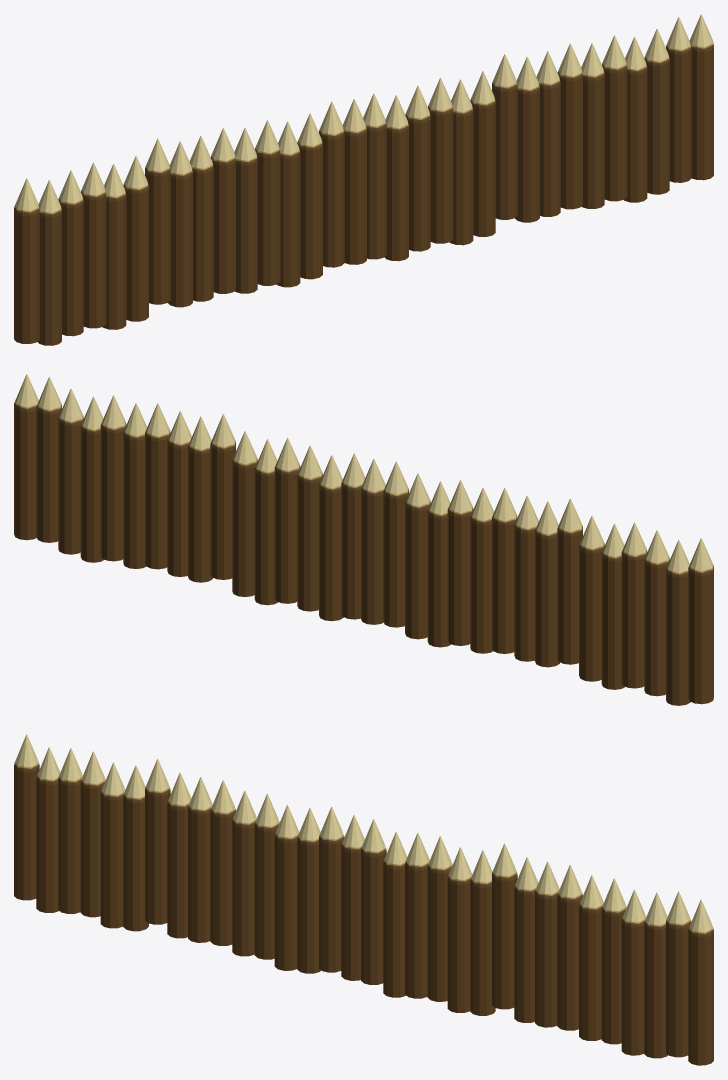
The model's file is baricades.fbx.
3 renders of one model, top to bottom at view 1: azimuth 30°, elevation 25°; view 2: azimuth 150°, elevation 25°; view 3: azimuth 330°, elevation 25°, orthographic.
Visible parts, largest first — view 1: Cylinder.013, Cylinder.031, Cylinder.015, Cylinder.016, Cylinder, Cylinder.022, Cylinder.025, Cylinder.011, Cylinder.028, Cylinder.004, Cylinder.027, Cylinder.020 (+20 smaller); view 2: Cylinder.013, Cylinder.031, Cylinder.015, Cylinder.016, Cylinder, Cylinder.022, Cylinder.025, Cylinder.004, Cylinder.011, Cylinder.020, Cylinder.027, Cylinder.028 (+20 smaller); view 3: Cylinder.024, Cylinder.010, Cylinder.026, Cylinder.021, Cylinder.005, Cylinder.022, Cylinder.013, Cylinder.009, Cylinder.018, Cylinder.006, Cylinder.003, Cylinder.025 (+20 smaller).
Boxes of the visible parts, x1,y1,x2,y2 form: Cylinder.013: [14, 178, 39, 343]; Cylinder.031: [602, 35, 627, 201]; Cylinder.015: [81, 162, 106, 328]; Cylinder.016: [428, 78, 453, 243]; Cylinder: [255, 120, 280, 285]; Cylinder.022: [492, 54, 517, 219]; Cylinder.025: [666, 17, 691, 182]; Cylinder.011: [123, 156, 148, 321]; Cylinder.028: [557, 43, 582, 209]; Cylinder.004: [297, 113, 322, 279]; Cylinder.027: [644, 29, 669, 194]; Cylinder.020: [470, 71, 495, 236]; Cylinder.013: [688, 538, 713, 704]; Cylinder.031: [100, 395, 126, 561]; Cylinder.015: [621, 522, 647, 688]; Cylinder.016: [274, 437, 300, 603]; Cylinder: [447, 480, 473, 645]; Cylinder.022: [210, 414, 235, 579]; Cylinder.025: [36, 376, 61, 542]; Cylinder.004: [405, 473, 430, 639]; Cylinder.011: [579, 516, 604, 681]; Cylinder.020: [232, 431, 257, 596]; Cylinder.027: [58, 389, 83, 554]; Cylinder.028: [145, 403, 170, 569]; Cylinder.024: [688, 899, 713, 1065]; Cylinder.010: [100, 762, 125, 928]; Cylinder.026: [621, 889, 646, 1055]; Cylinder.021: [447, 847, 472, 1012]; Cylinder.005: [274, 805, 299, 970]; Cylinder.022: [492, 843, 517, 1009]; Cylinder.013: [14, 734, 39, 900]; Cylinder.009: [145, 758, 170, 924]; Cylinder.018: [361, 819, 386, 984]; Cylinder.006: [319, 806, 344, 972]; Cylinder.003: [210, 780, 235, 945]; Cylinder.025: [666, 891, 691, 1057].
Bounding box in the file's own units: 6077 × 1461 × 193.
